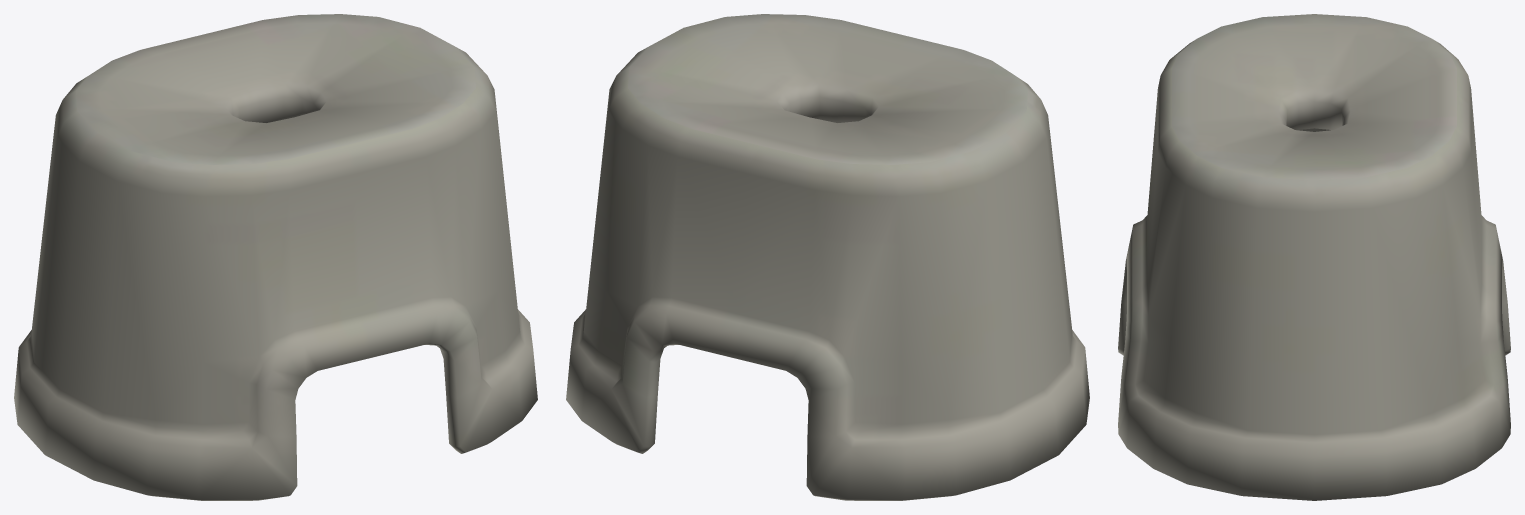
3 renders of one model, left to right at view 1: azimuth 30°, elevation 25°; view 2: azimuth 150°, elevation 25°; view 3: azimuth 270°, elevation 25°, orthographic. The views are drawn at different scales.
Bounding box in the file's own units: 6.29 × 4.07 × 4.84.
1 material, 1 textured.
